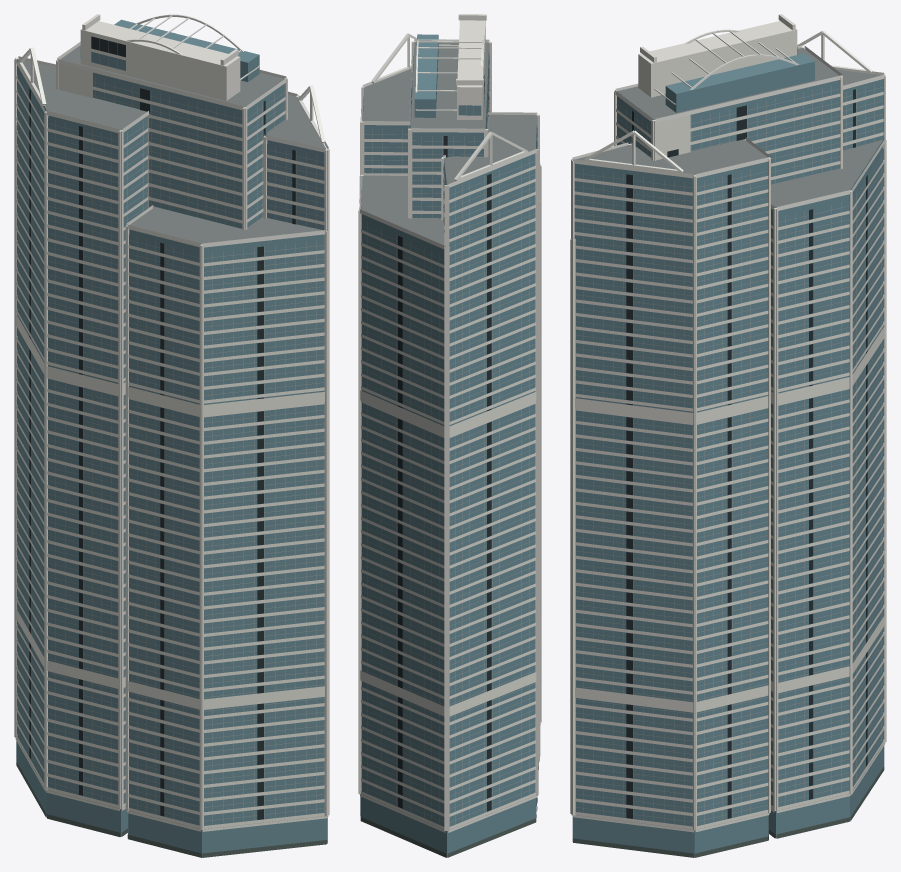
File: bespoke-tower-palace-e.glb
3 views of the same model, side by side, from view 1: azimuth 30°, elevation 25°; view 2: azimuth 150°, elevation 25°; view 3: azimuth 270°, elevation 25° (orthographic). The views are drawn at different scales.
Parts seen in each view (by area): view 1: E_03_reentrant_blue_banks_2, E_02_broad_white_spandrels, E_04_solid_core_and_vent_axes, E_03_reentrant_blue_banks_1, E_01_angular_stepped_five_part_body_2, E_03_reentrant_blue_banks_3, E_05_open_triangular_roof_frames_3, E_07_ground_lobby_2, E_01_angular_stepped_five_part_body_1, E_05_open_triangular_roof_frames_2, E_07_ground_lobby_3, E_07_ground_lobby_1 (+1 smaller); view 2: E_03_reentrant_blue_banks_2, E_02_broad_white_spandrels, E_04_solid_core_and_vent_axes, E_03_reentrant_blue_banks_1, E_01_angular_stepped_five_part_body_2, E_05_open_triangular_roof_frames_3, E_03_reentrant_blue_banks_3, E_07_ground_lobby_2, E_05_open_triangular_roof_frames_2, E_01_angular_stepped_five_part_body_1, E_06_two_open_roof_arches, E_07_ground_lobby_3 (+2 smaller); view 3: E_03_reentrant_blue_banks_2, E_02_broad_white_spandrels, E_04_solid_core_and_vent_axes, E_01_angular_stepped_five_part_body_2, E_03_reentrant_blue_banks_1, E_03_reentrant_blue_banks_3, E_05_open_triangular_roof_frames_3, E_07_ground_lobby_2, E_01_angular_stepped_five_part_body_1, E_05_open_triangular_roof_frames_2, E_07_ground_lobby_3, E_06_two_open_roof_arches (+1 smaller).
Boxes of the visible parts, x1,y1,x2,y2 form: E_03_reentrant_blue_banks_2: (17,47,324,825); E_02_broad_white_spandrels: (16,76,324,829); E_04_solid_core_and_vent_axes: (14,57,329,829); E_03_reentrant_blue_banks_1: (16,39,323,824); E_01_angular_stepped_five_part_body_2: (17,19,325,857); E_03_reentrant_blue_banks_3: (29,36,295,819); E_05_open_triangular_roof_frames_3: (18,45,325,244); E_07_ground_lobby_2: (16,741,327,853); E_01_angular_stepped_five_part_body_1: (80,21,240,100); E_05_open_triangular_roof_frames_2: (15,41,328,247); E_07_ground_lobby_3: (16,761,327,857); E_07_ground_lobby_1: (15,738,328,831); E_03_reentrant_blue_banks_2: (361,55,537,825); E_02_broad_white_spandrels: (360,60,540,829); E_04_solid_core_and_vent_axes: (358,41,541,830); E_03_reentrant_blue_banks_1: (361,106,535,823); E_01_angular_stepped_five_part_body_2: (361,34,537,857); E_05_open_triangular_roof_frames_3: (361,42,536,244); E_03_reentrant_blue_banks_3: (398,75,491,811); E_07_ground_lobby_2: (360,761,538,853); E_05_open_triangular_roof_frames_2: (359,33,540,249); E_01_angular_stepped_five_part_body_1: (457,20,485,119); E_06_two_open_roof_arches: (415,39,483,110); E_07_ground_lobby_3: (360,761,539,857); E_03_reentrant_blue_banks_2: (574,47,883,825); E_02_broad_white_spandrels: (574,91,884,829); E_04_solid_core_and_vent_axes: (570,46,886,830); E_01_angular_stepped_five_part_body_2: (574,53,883,857); E_03_reentrant_blue_banks_1: (575,84,883,824); E_03_reentrant_blue_banks_3: (626,89,867,818); E_05_open_triangular_roof_frames_3: (575,48,882,207); E_07_ground_lobby_2: (572,746,884,853); E_01_angular_stepped_five_part_body_1: (638,21,797,97); E_05_open_triangular_roof_frames_2: (572,30,884,240); E_07_ground_lobby_3: (572,766,884,857); E_06_two_open_roof_arches: (654,29,798,104).
Bounding box in the file's own units: 56.77 × 191 × 71.77.
